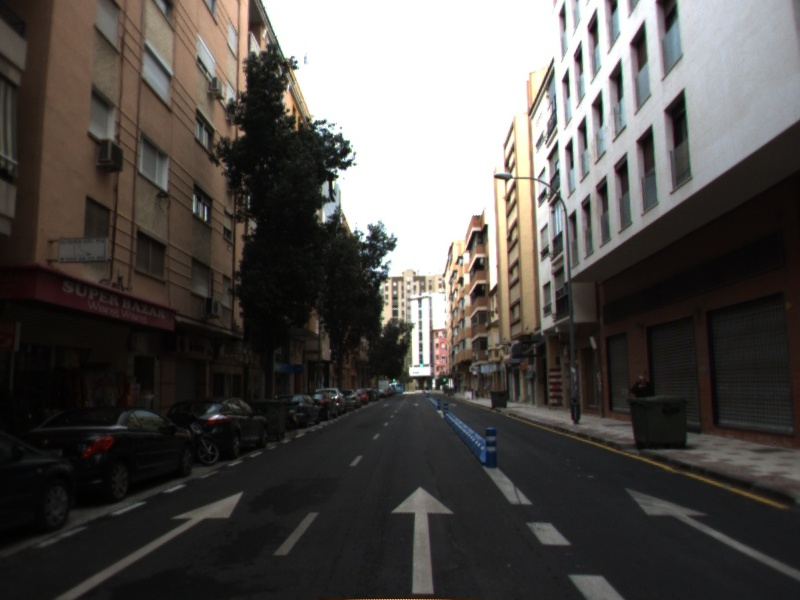STRAIGHT: (54, 490, 245, 600), (623, 486, 800, 581), (389, 485, 456, 596)
